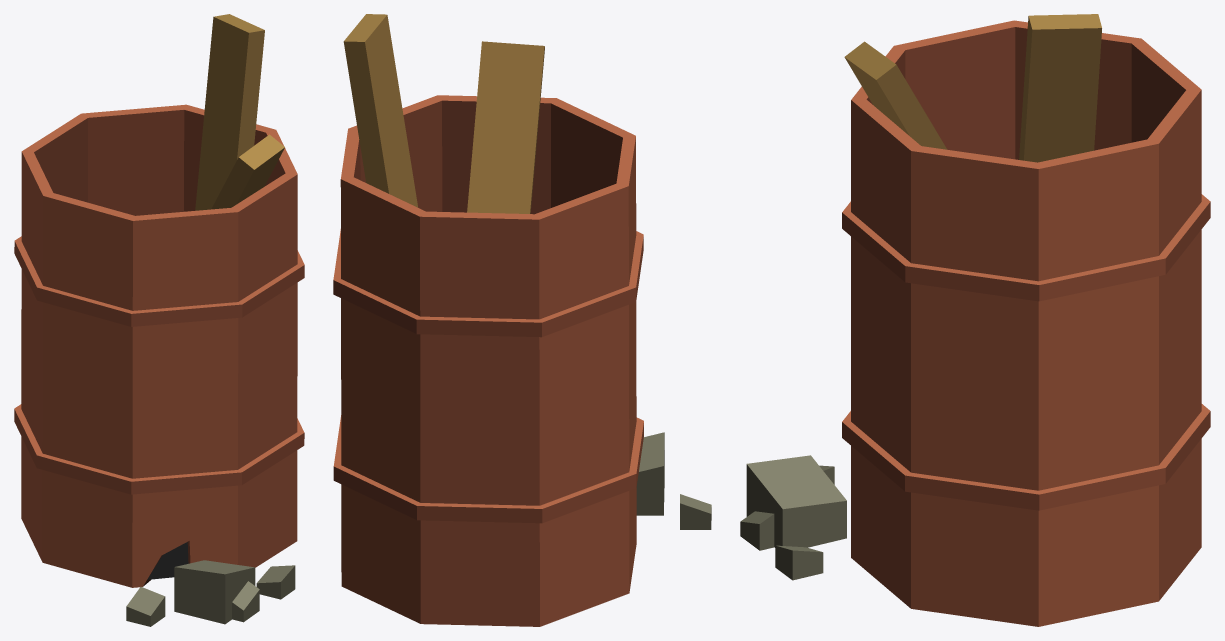
File: SA_Prop_BurnBarrel_01.glb
The picture shows the model from 3 angles, left to right: view 1: azimuth 30°, elevation 25°; view 2: azimuth 150°, elevation 25°; view 3: azimuth 270°, elevation 25°; orthographic projection. The views are drawn at different scales.
Visible parts, largest first — view 1: SA_Prop_BurnBarrel_01; view 2: SA_Prop_BurnBarrel_01; view 3: SA_Prop_BurnBarrel_01.
Boxes of the visible parts, x1,y1,x2,y2 form: SA_Prop_BurnBarrel_01: (14, 14, 304, 626); SA_Prop_BurnBarrel_01: (333, 14, 711, 626); SA_Prop_BurnBarrel_01: (740, 14, 1210, 626).
Bounding box in the file's own units: 0.5589 × 0.9932 × 0.7124.
Materials: 1 (1 with a texture image).
